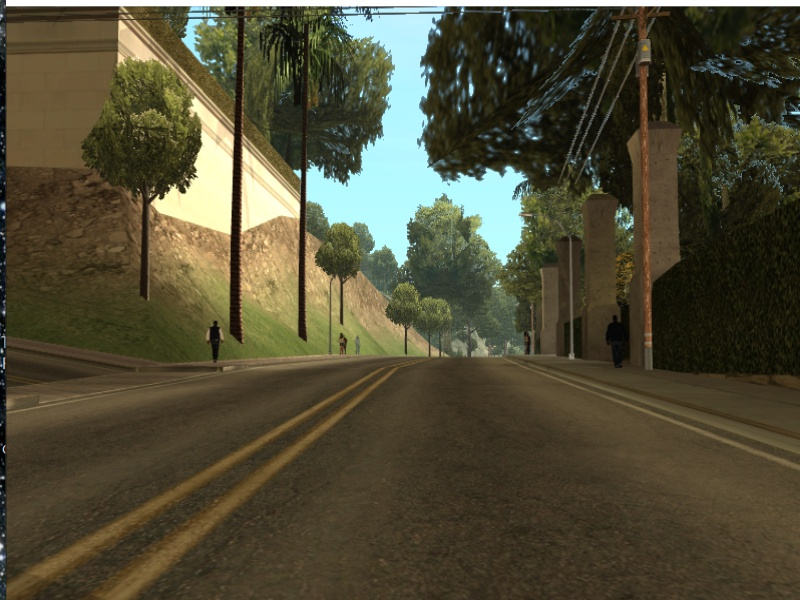person: (607, 316, 628, 372), (205, 320, 226, 364), (521, 330, 532, 357), (340, 333, 348, 358)
pole: (632, 73, 669, 372), (566, 250, 577, 362), (328, 284, 334, 358)
tree: (230, 39, 249, 342), (139, 202, 151, 305)
